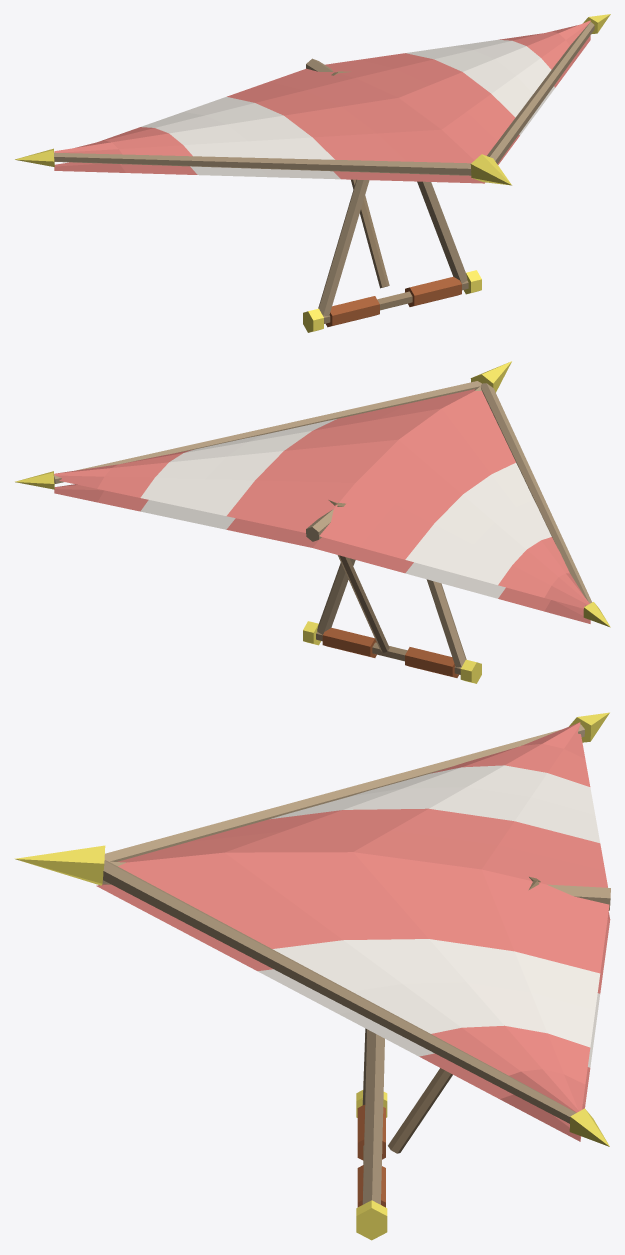
The model's file is glider.glb.
3 renders of one model, top to bottom at view 1: azimuth 30°, elevation 25°; view 2: azimuth 150°, elevation 25°; view 3: azimuth 270°, elevation 25°, orthographic. The views are drawn at different scales.
Visible parts, largest first — view 1: GliderWing, GliderFrame; view 2: GliderWing, GliderFrame; view 3: GliderWing, GliderFrame.
Boxes of the visible parts, left/top/right/bottom form: GliderWing: left=54, top=20, right=590, bottom=183; GliderFrame: left=15, top=14, right=610, bottom=332; GliderWing: left=54, top=389, right=590, bottom=623; GliderFrame: left=15, top=361, right=610, bottom=683; GliderWing: left=96, top=722, right=610, bottom=1141; GliderFrame: left=14, top=712, right=610, bottom=1240.
Bounding box in the file's own units: 2.76 × 0.9878 × 1.6.
